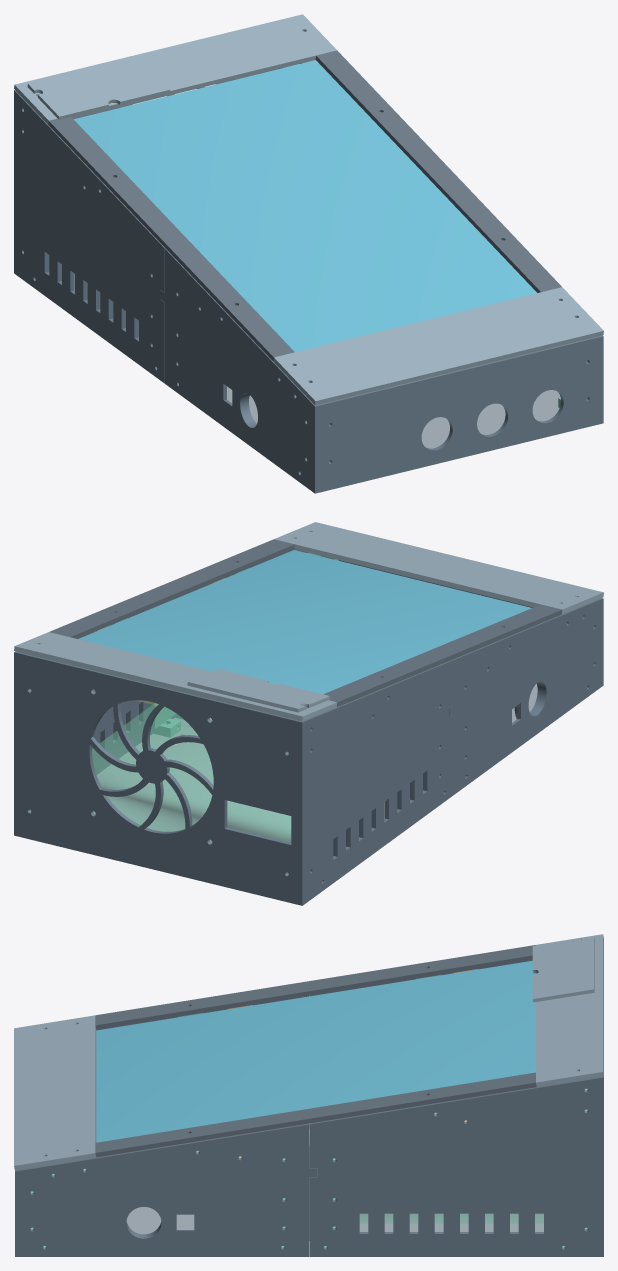
File: cabinet-v1_8.glb
3 renders of one model, top to bottom at view 1: azimuth 30°, elevation 25°; view 2: azimuth 150°, elevation 25°; view 3: azimuth 270°, elevation 25°, orthographic. The views are drawn at different scales.
Parts seen in each view (by area): view 1: REFERENCE_Monitor, left_rear_wall, front_button_panel, left_front_wall, front_cable_lid, rear_control_deck, bezel_right_a1_a2, bezel_left_one_piece, control_hatch, bottom_front; view 2: rear_vent_panel, REFERENCE_Monitor, left_rear_wall, left_front_wall, front_cable_lid, REFERENCE_Dell_3050, bottom_rear, rear_control_deck, bezel_right_a1_a2, bezel_left_one_piece, right_rear_wall, control_hatch; view 3: REFERENCE_Monitor, right_rear_wall, right_front_wall, front_cable_lid, bezel_right_a1_a2, bezel_left_one_piece, rear_control_deck, control_hatch, bottom_rear, bottom_front, REFERENCE_Dell_3050.
Part boxes in pixels (<box>): REFERENCE_Monitor: <box>73,60,536,352</box>; left_rear_wall: <box>14,90,164,383</box>; front_button_panel: <box>319,336,598,492</box>; left_front_wall: <box>160,248,319,493</box>; front_cable_lid: <box>273,287,603,405</box>; rear_control_deck: <box>14,14,336,124</box>; bezel_right_a1_a2: <box>315,50,561,292</box>; bezel_left_one_piece: <box>48,117,294,360</box>; control_hatch: <box>27,56,170,119</box>; bottom_front: <box>227,386,560,448</box>; rear_vent_panel: <box>18,652,299,904</box>; REFERENCE_Monitor: <box>78,550,531,694</box>; left_rear_wall: <box>298,660,452,905</box>; left_front_wall: <box>449,598,603,795</box>; front_cable_lid: <box>274,522,603,614</box>; REFERENCE_Dell_3050: <box>92,703,291,842</box>; bottom_rear: <box>93,725,384,842</box>; rear_control_deck: <box>14,632,337,721</box>; bezel_right_a1_a2: <box>49,539,294,638</box>; bezel_left_one_piece: <box>323,604,562,706</box>; right_rear_wall: <box>14,601,168,836</box>; control_hatch: <box>187,669,329,712</box>; REFERENCE_Monitor: <box>96,960,535,1142</box>; right_rear_wall: <box>309,1076,603,1256</box>; right_front_wall: <box>15,1123,316,1256</box>; front_cable_lid: <box>14,1015,96,1170</box>; bezel_right_a1_a2: <box>95,1072,536,1157</box>; bezel_left_one_piece: <box>95,945,535,1029</box>; rear_control_deck: <box>536,934,603,1086</box>; control_hatch: <box>532,936,594,1002</box>; bottom_rear: <box>359,1213,543,1231</box>; bottom_front: <box>126,1207,194,1234</box>; REFERENCE_Dell_3050: <box>359,1213,543,1223</box>.
Size of the model in its own units: 0.26 by 0.1646 by 0.4707.
